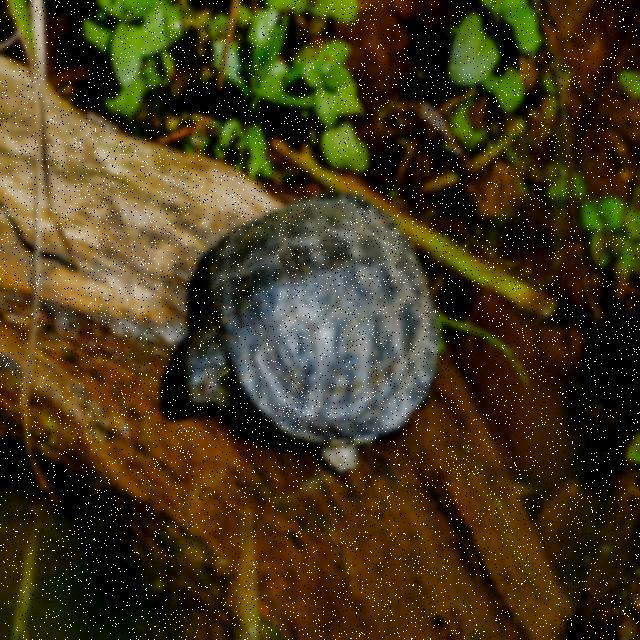tortoise: (160, 194, 436, 478)
